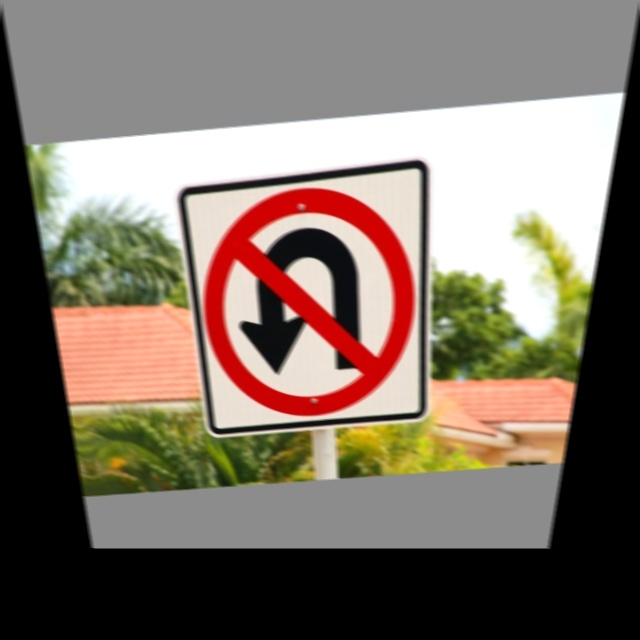U_Turn_Prohibited: (183, 170, 439, 424)
